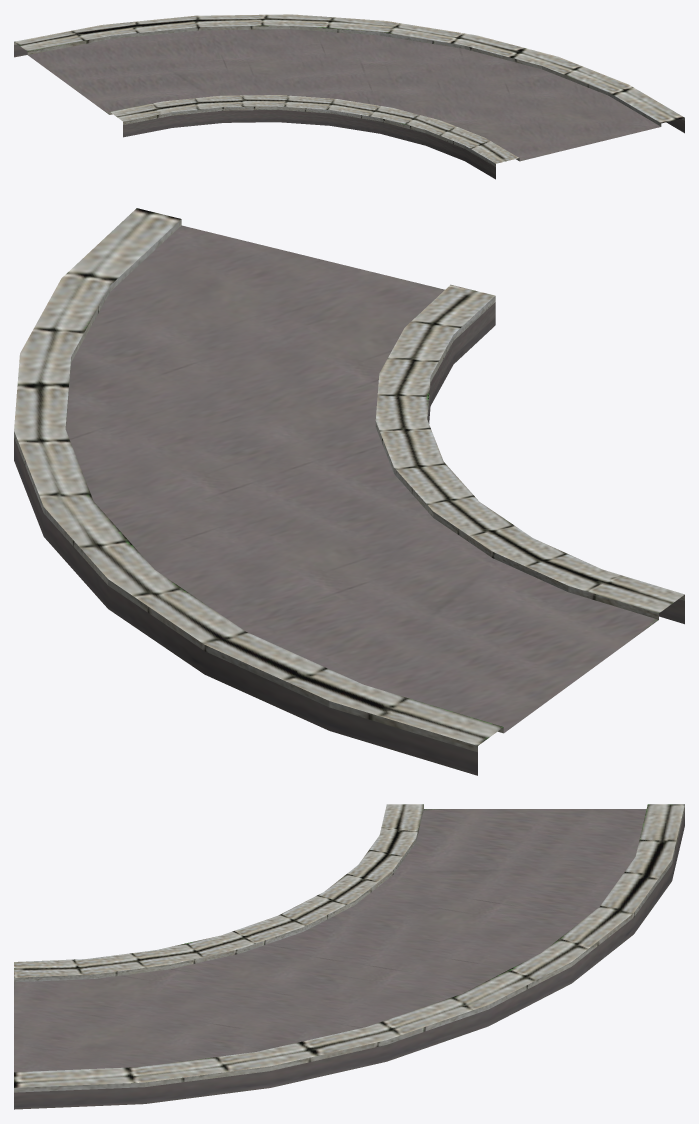
The model's file is L Road(Small).FBX.
3 renders of one model, top to bottom at view 1: azimuth 30°, elevation 25°; view 2: azimuth 150°, elevation 25°; view 3: azimuth 270°, elevation 25°, orthographic. The views are drawn at different scales.
Visible parts, largest first — view 1: L Road(Small); view 2: L Road(Small); view 3: L Road(Small).
Boxes of the visible parts, x1=… form: L Road(Small): x1=14, y1=14, x2=684, y2=179; L Road(Small): x1=14, y1=208, x2=684, y2=775; L Road(Small): x1=14, y1=804, x2=684, y2=1109.
Size of the model in its own units: 1800 by 63.69 by 1800.
